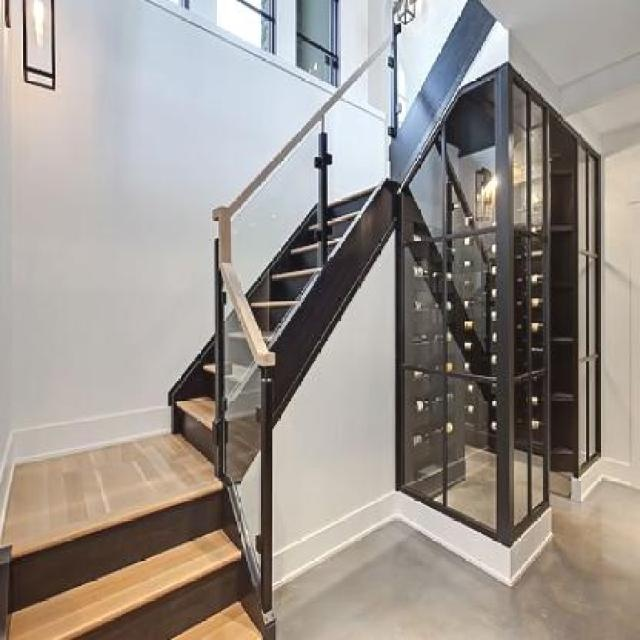stair: (162, 114, 405, 488), (0, 470, 308, 639)
